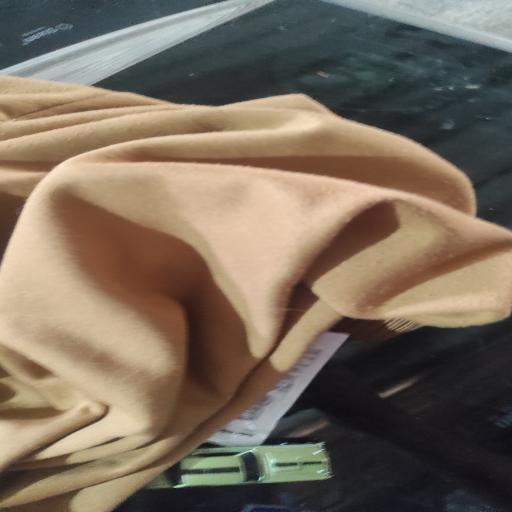Carrito: (146, 443, 331, 489)
